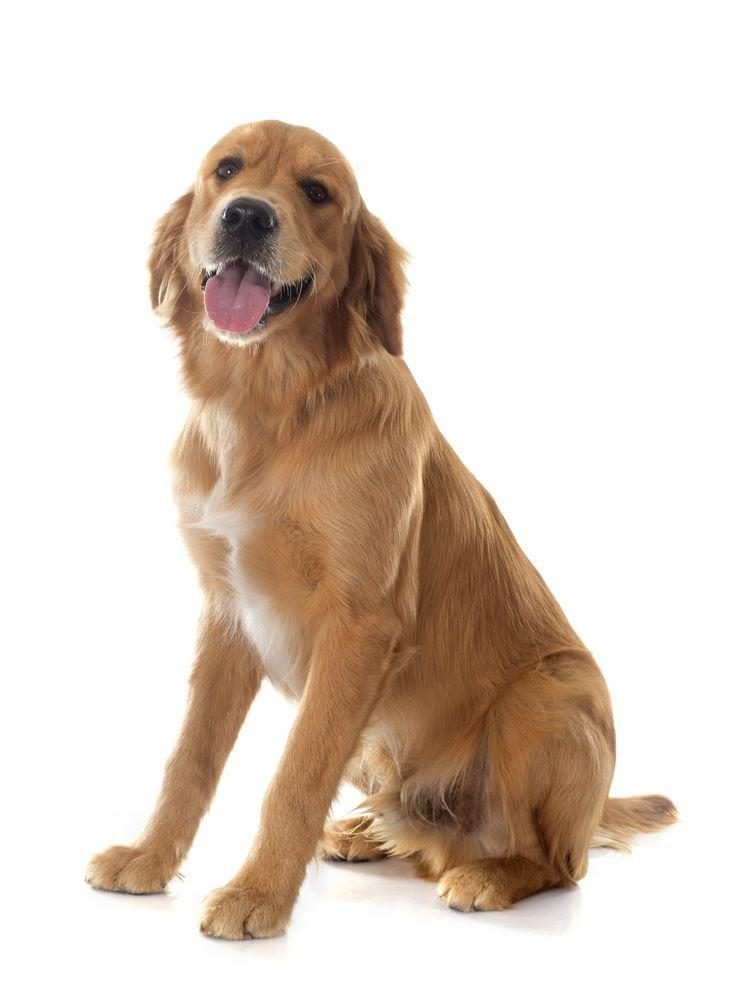adult_dog: (82, 119, 683, 944)
